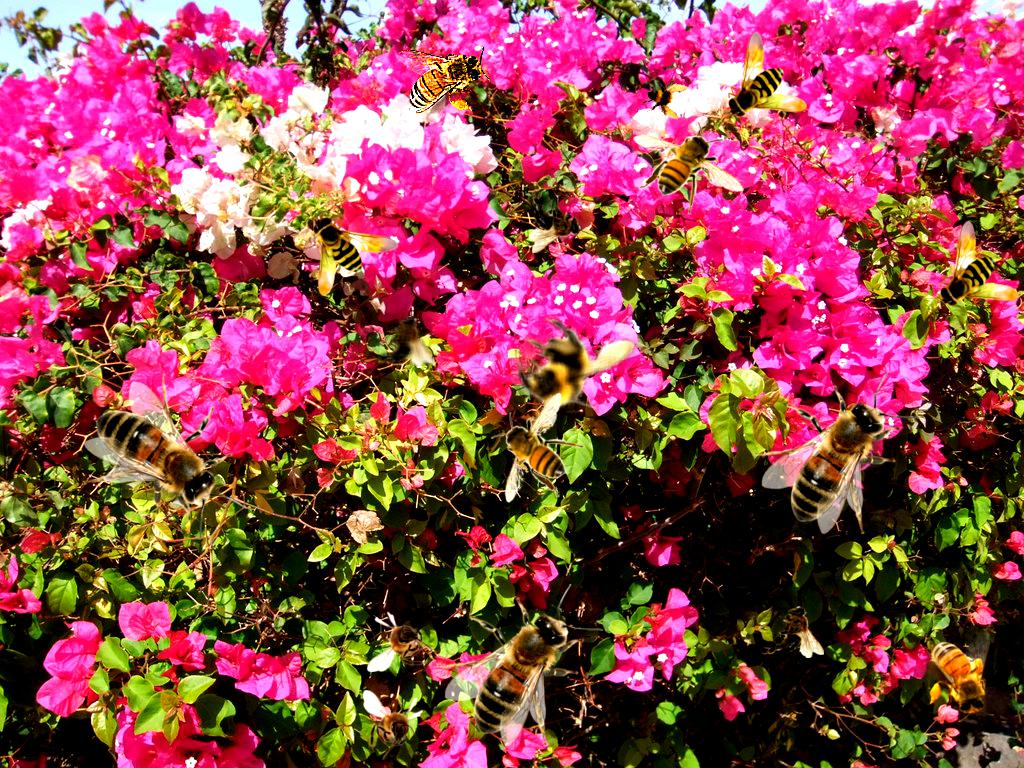Bee: (84, 373, 246, 540), (753, 372, 920, 534), (436, 584, 603, 746), (495, 284, 652, 441), (633, 121, 744, 215), (491, 392, 585, 503), (725, 31, 807, 119), (937, 220, 1019, 308), (311, 214, 399, 296), (397, 46, 490, 114), (926, 629, 994, 722), (367, 611, 437, 672), (363, 690, 424, 760), (762, 605, 824, 658), (529, 191, 582, 253), (373, 315, 435, 368), (637, 69, 691, 123)
